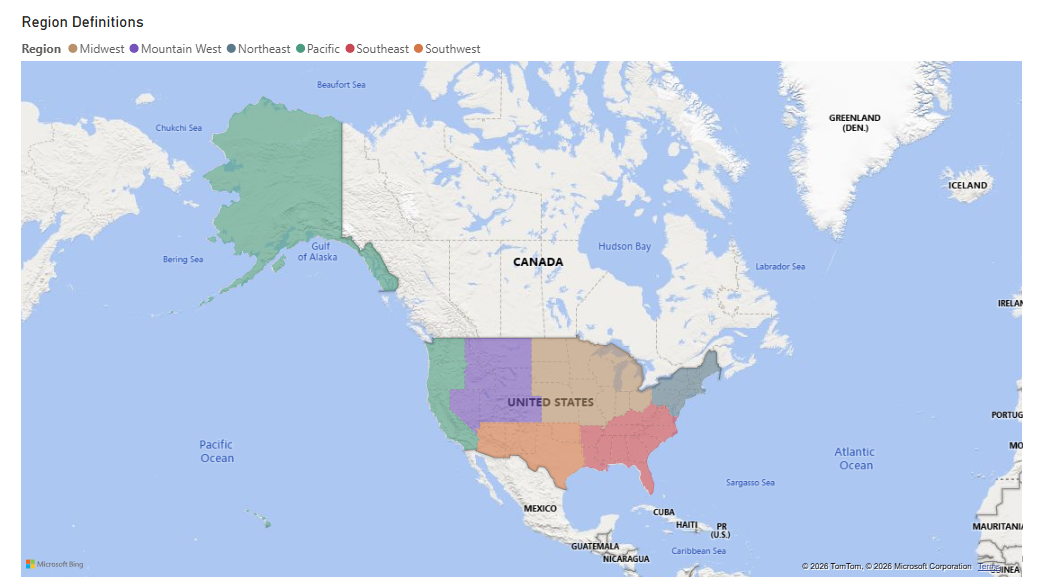

This screenshot's page, from the dashboard's own definition file:
{"tool":"powerbi","page":{"name":"Region Defintions","canvas":[1280,720],"ordinal":1},"visuals":[{"type":"filledMap","title":"Region Definitions","fields":{"Category":["state_color_codes (2).State"],"Series":["state_color_codes (2).Region"]},"box":[78.9,43.3,1122.2,632.2],"z":0}]}

Visuals, with their boxes in screenshot pixels (x1, y1, x2, y2), scaled from the page's 1280x720 canvas onto the 1038x587 screenshot:
"Region Definitions" filledMap: rect(64, 35, 974, 551)
